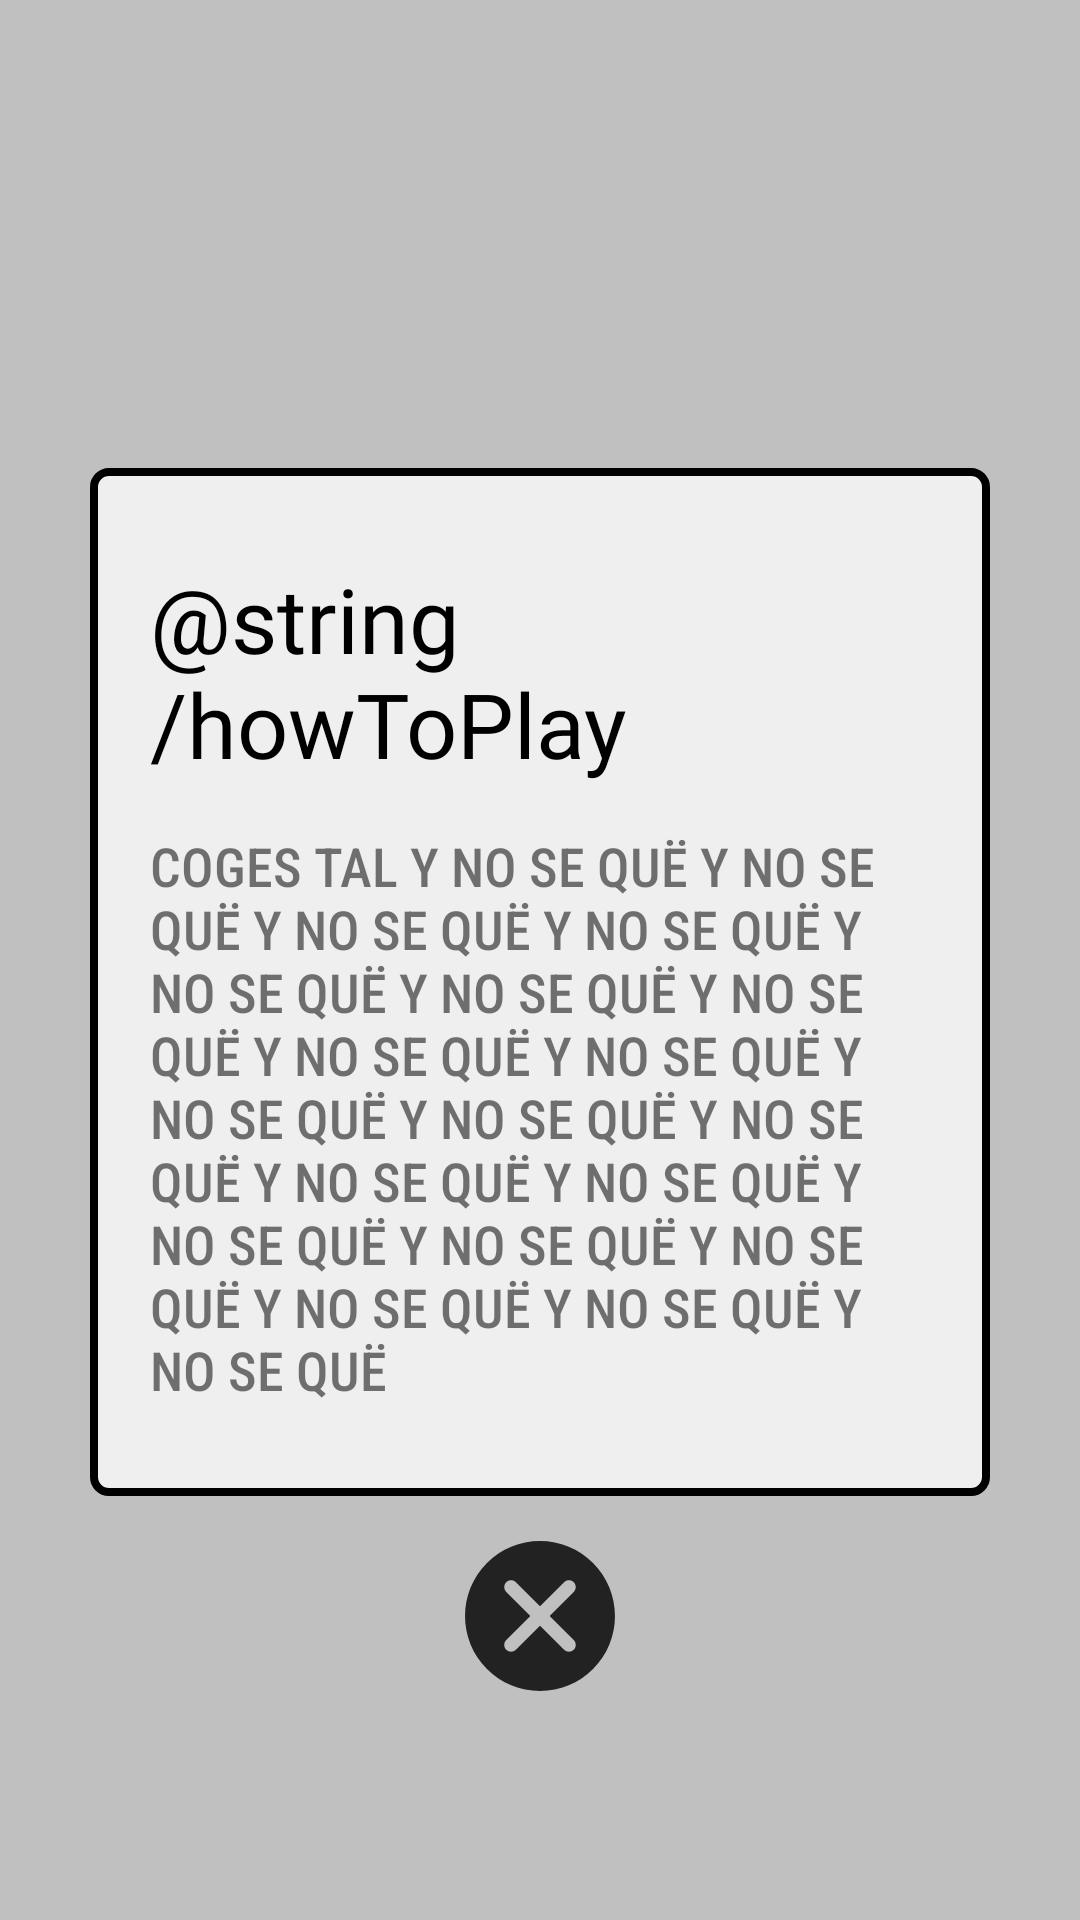

Screen size 1080 x 1920. Icon name, then its box in pixels as (x1, y1, x2, y2):
close: (465, 1541, 615, 1691)
